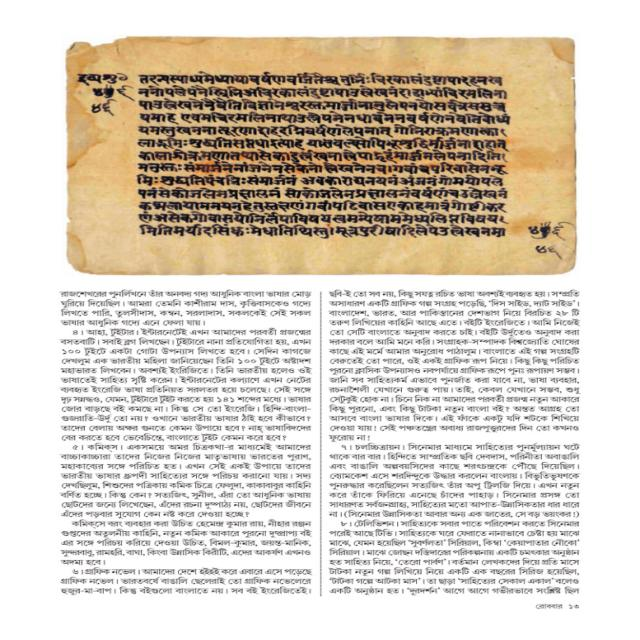image: (65, 29, 576, 279)
page number: (567, 600, 583, 611)
paragraph: (132, 66, 514, 239), (313, 440, 583, 598), (327, 286, 587, 447), (54, 325, 312, 441), (54, 441, 319, 521), (59, 521, 317, 570), (53, 285, 323, 325), (55, 562, 316, 599)
text: (69, 67, 138, 114), (519, 222, 571, 251), (535, 602, 563, 611)
